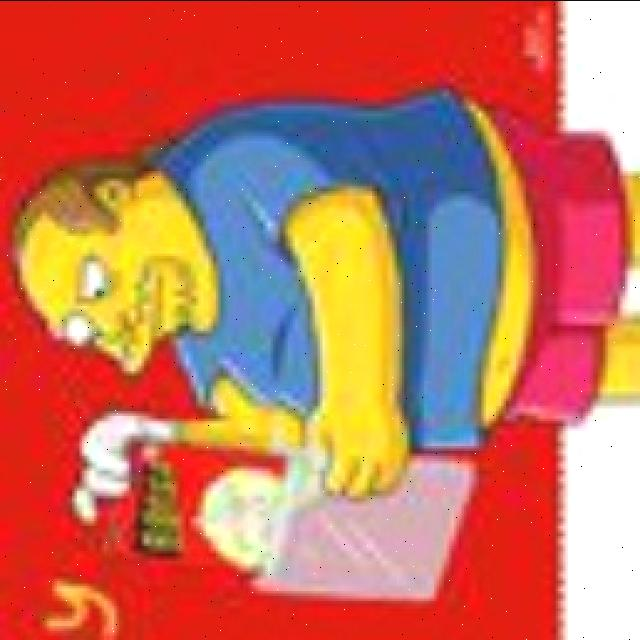Comic Book Guy: (8, 134, 226, 382)
